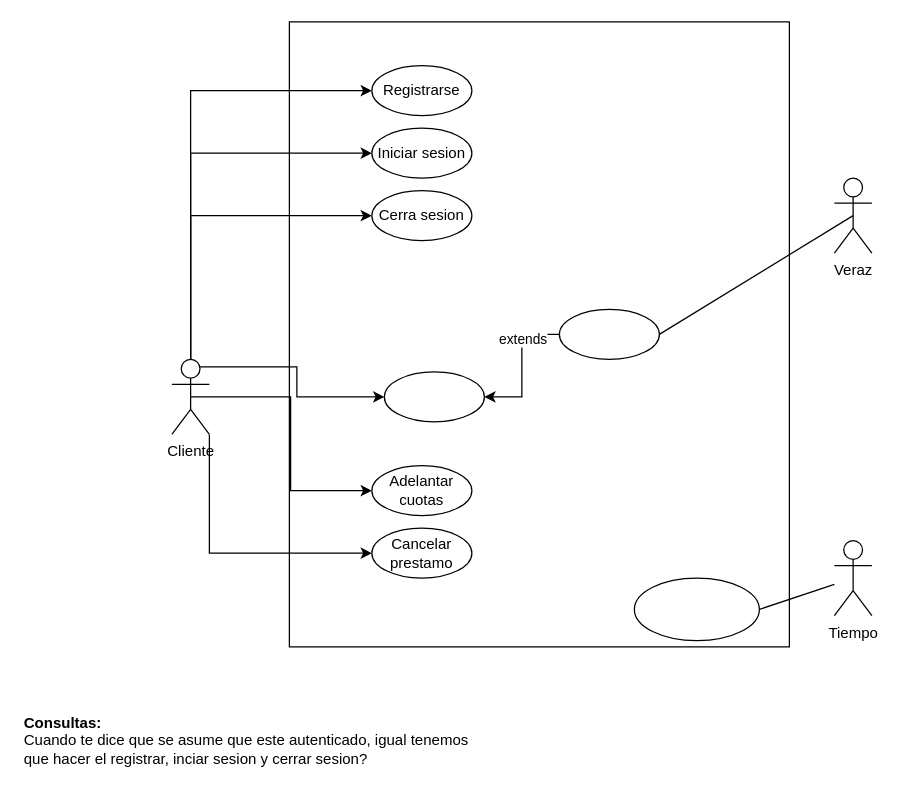
The diagram is 899 pixels wide and 800 high, and some of its shapes have lost their labels. Here are the shapes that lost their labels. From the top down, the centre of each, then its label:
(608,333): Validar identidad
(433,396): Solicitar prestamo
(696,609): Descontar cuota mensual
